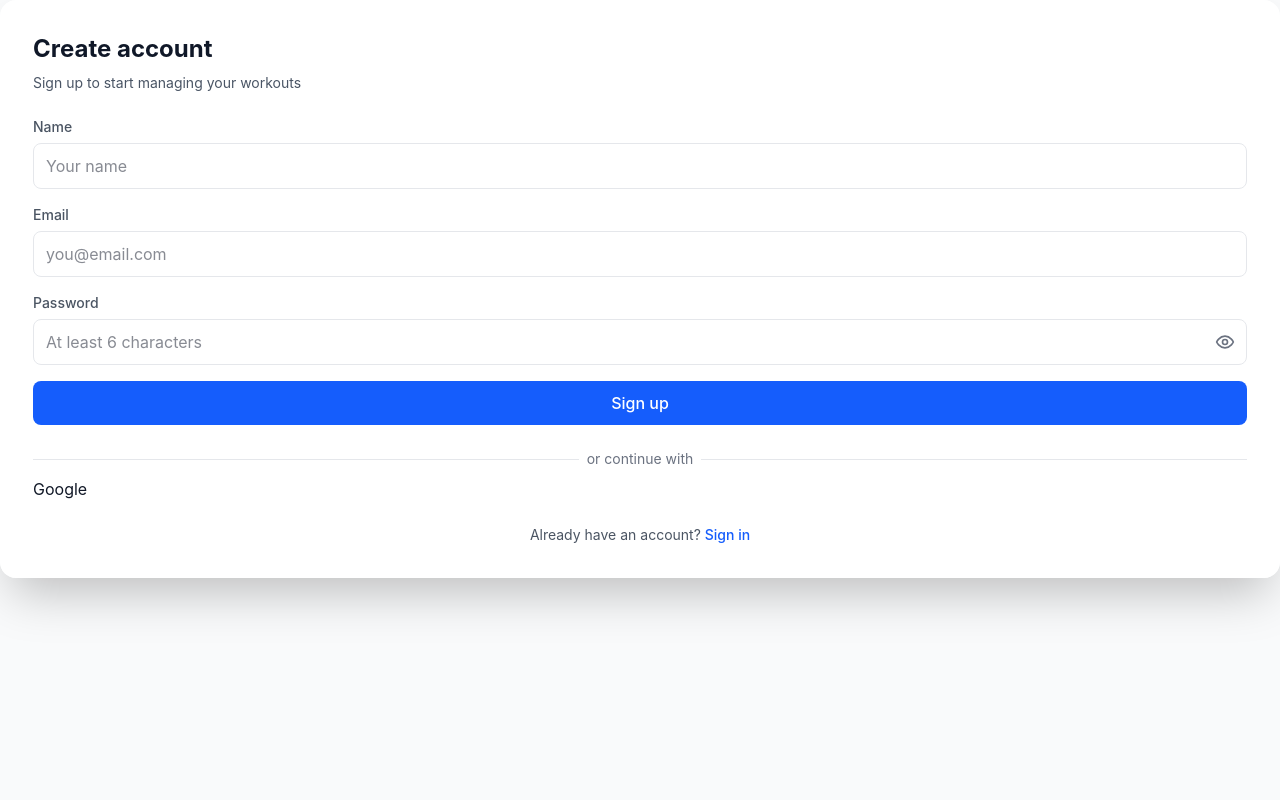
RegisterView › registra usuario y muestra pantalla de verificación
In the field with id "name": coordinates (640, 166) [33,143,1247,189], type "Nuevo"
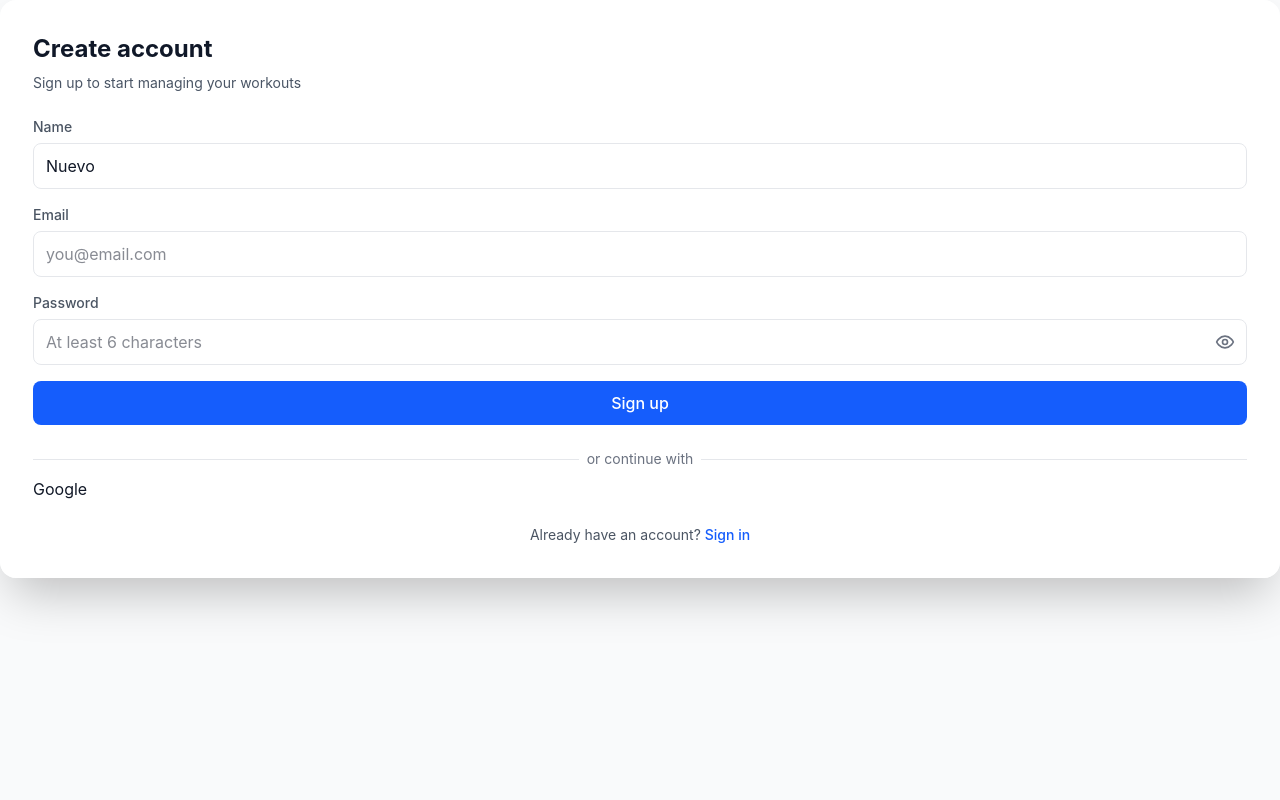
In the field with id "email": coordinates (640, 254) [33,231,1247,277], type "new@example.com"
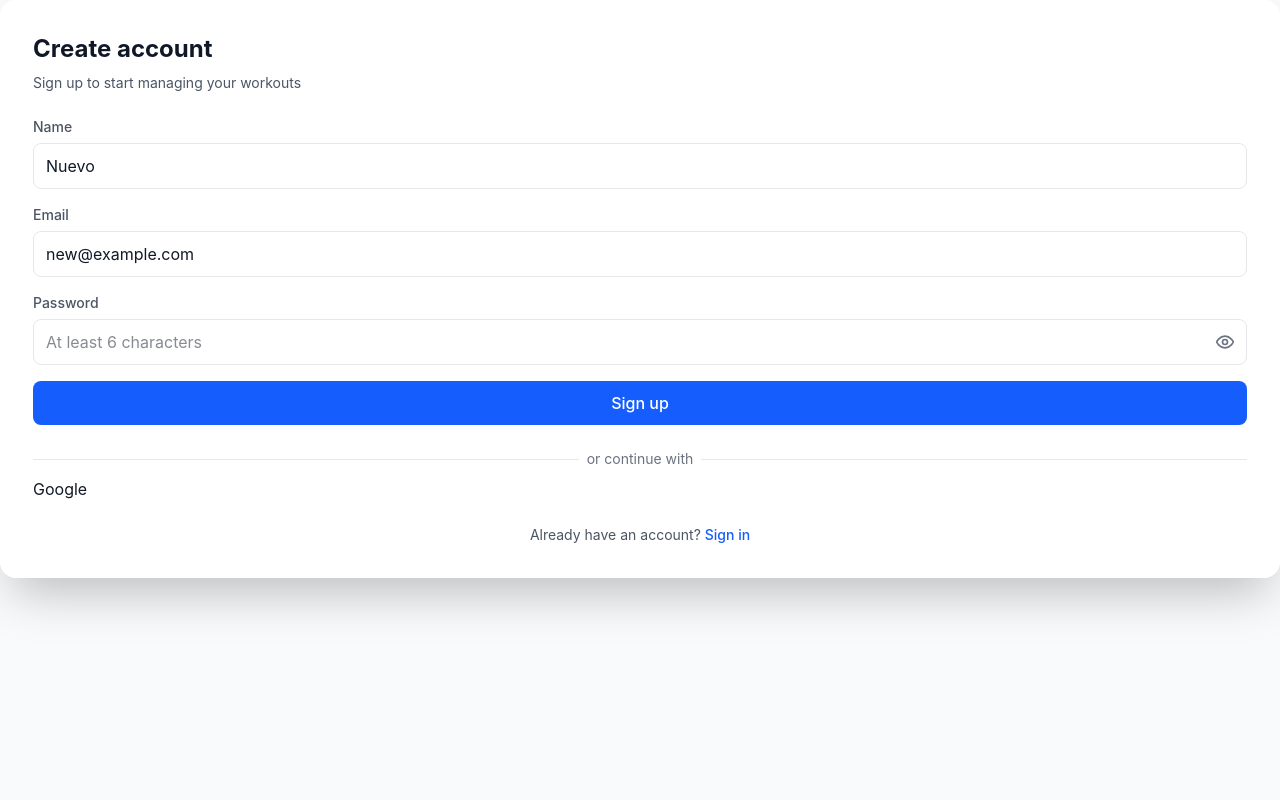
In the password field labelled "Password": coordinates (640, 342) [33,319,1247,365], type "secret123"
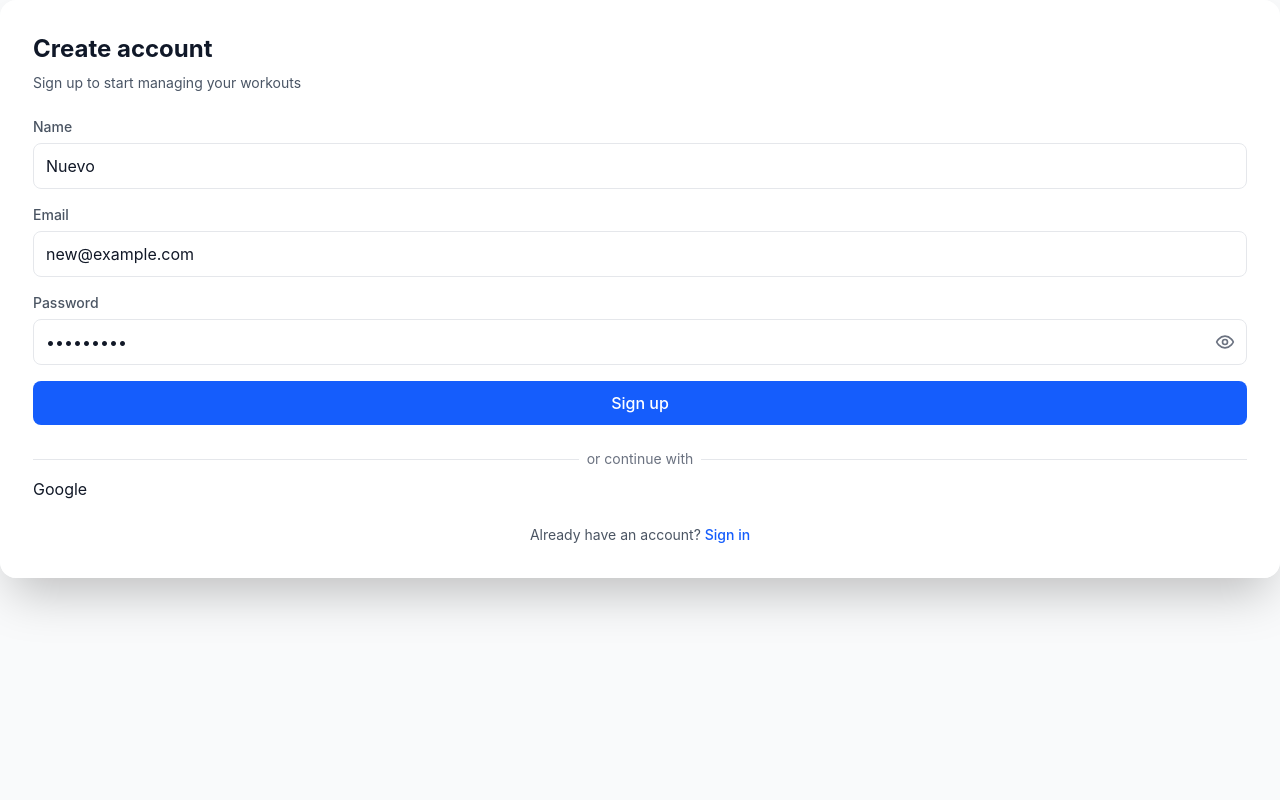
Submit the form, box [33,117,1247,501]
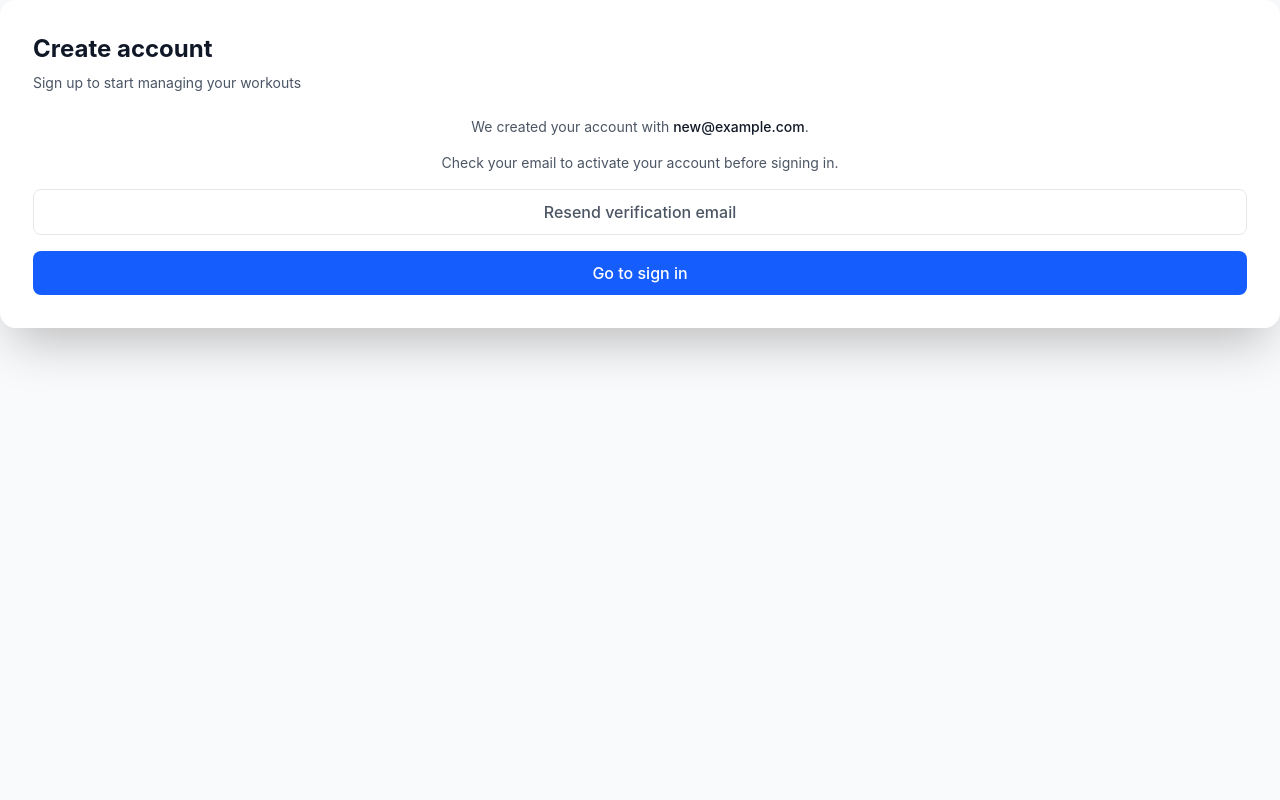
Now the text "new@example.com" is shown, box [673,118,805,135]
Now the text "Check your email to activate your account before signing in." is shown, box [442,154,838,171]
